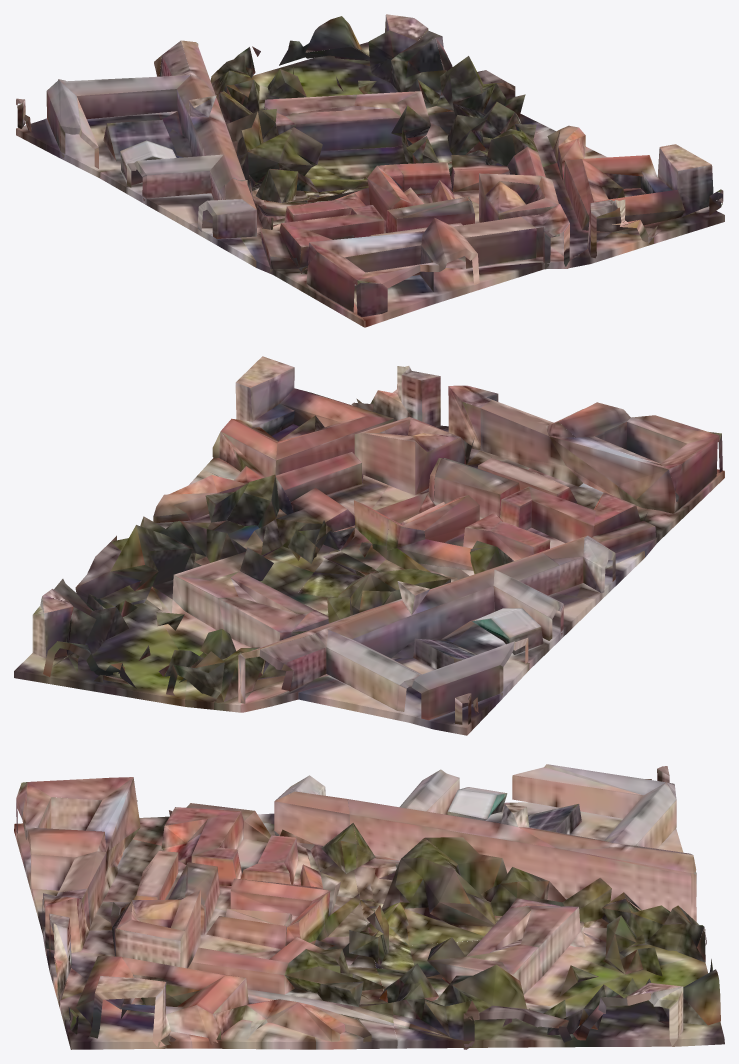
3 renders of one model, top to bottom at view 1: azimuth 30°, elevation 25°; view 2: azimuth 150°, elevation 25°; view 3: azimuth 270°, elevation 25°, orthographic. The views are drawn at different scales.
Parts seen in each view (by area): view 1: Mesh_0; view 2: Mesh_0; view 3: Mesh_0.
Part boxes in pixels (x1,y1,x2,y2): Mesh_0: [16, 14, 724, 327]; Mesh_0: [14, 356, 724, 735]; Mesh_0: [14, 764, 724, 1049].
Size of the model in its own units: 267 by 47.84 by 330.
2 materials, 2 textured.
